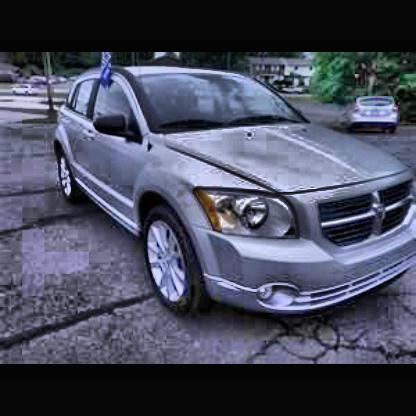Dodge Caliber Wagon 2012: (52, 63, 416, 323)
